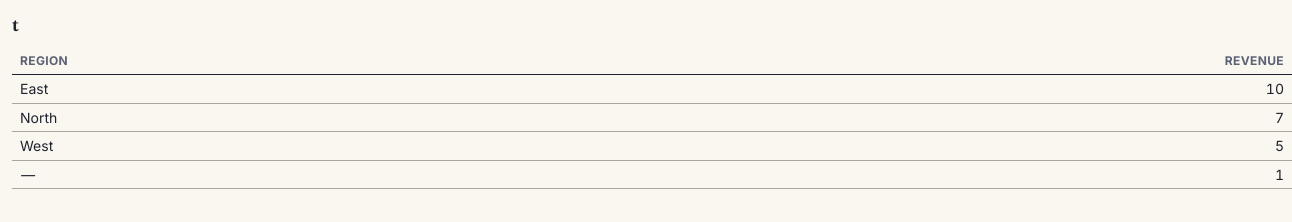
it: drill on a table › a value outside a static enum shows the inline error, commits nothing
The width and height of the screenshot is (1292, 222).
Click the row "North 7": (652, 117) [12, 103, 1291, 132]
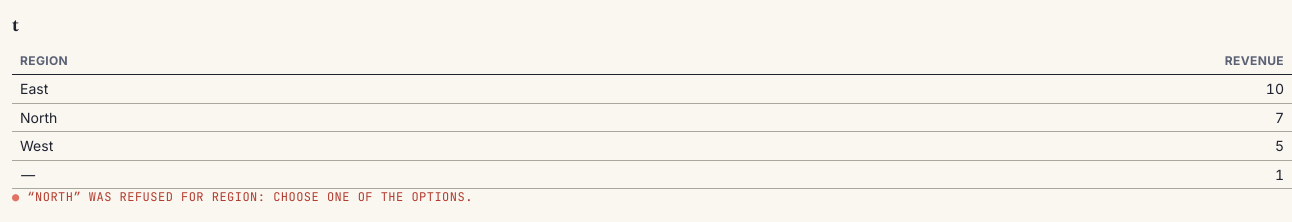
Expected: the message with test id "a2ui-drill-error" shows "one of the options", [27, 189, 473, 205]
